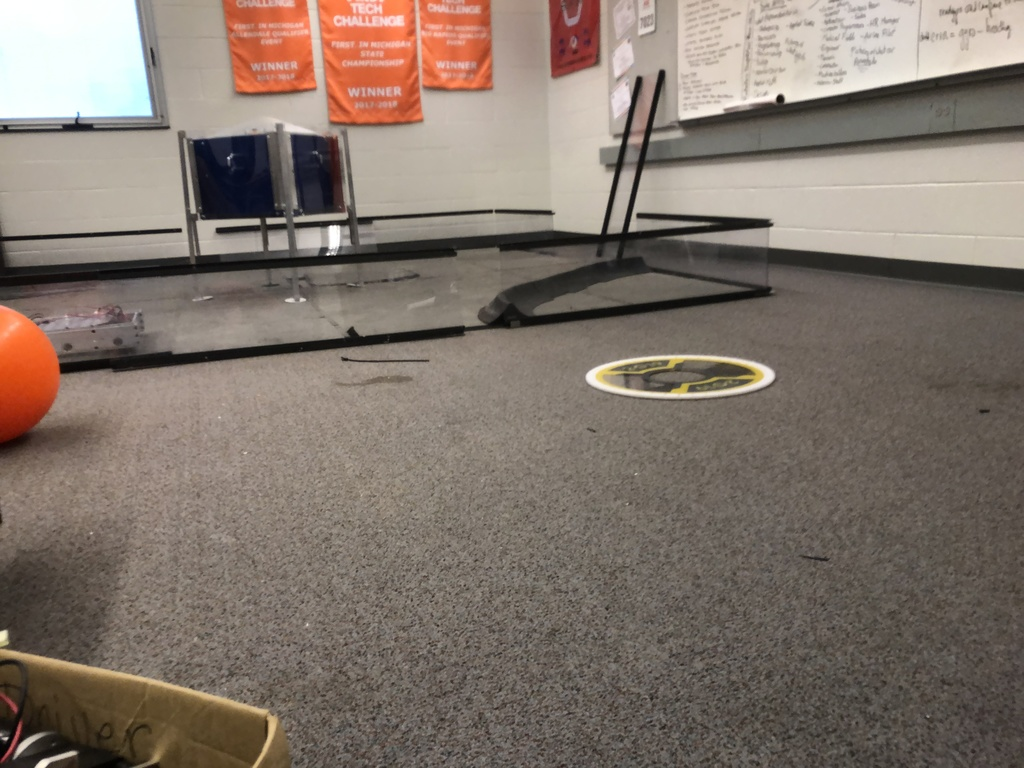hatch_panel: (577, 348, 781, 405)
